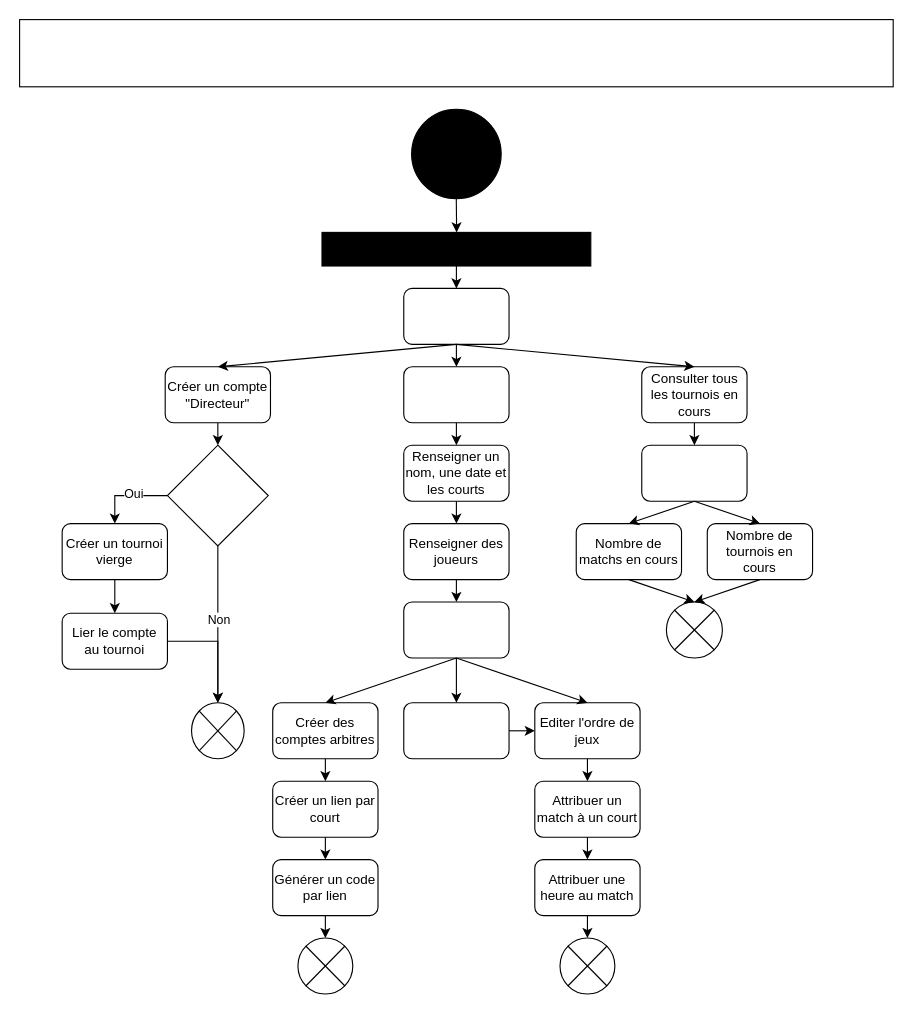
The diagram is 913 pixels wide and 1014 high, and some of its shapes have lost their labels. Here are the shapes that lost their labels. From the top down, the centre of each, then its label:
At [455,52]: "Diagramme d'activité : Administrateur".
At [456,315]: "Se connecter".
At [456,394]: "Créer un tournoi".
At [694,472]: "Visualiser différents graphiques".
At [217,495]: "Compte éphémère ?".
At [456,629]: "Consulter le tableau de bord du tournoi".
At [456,730]: "Editer le tableau des matchs".
